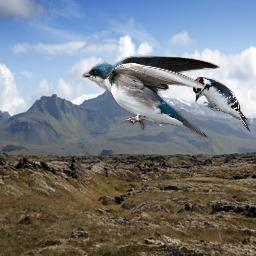Swallow: (82, 54, 220, 139)
Woodpecker: (192, 76, 252, 133)
